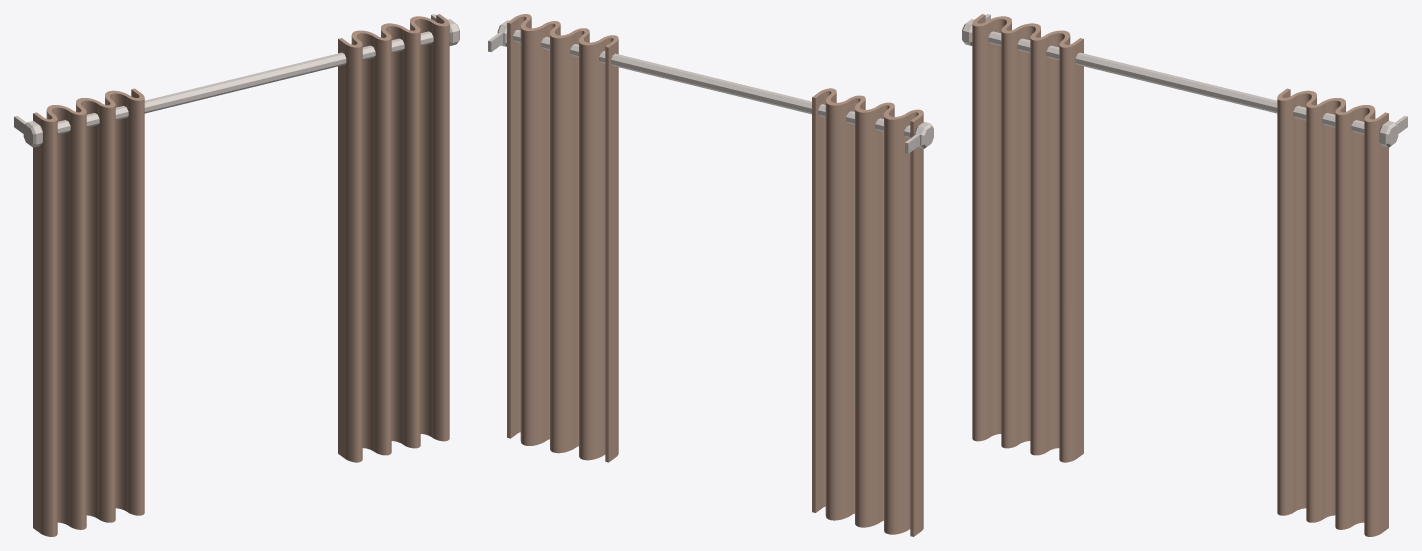
Rendered from Prop_Curtains_Double.glb.
3 views of the same model, side by side, from view 1: azimuth 30°, elevation 25°; view 2: azimuth 150°, elevation 25°; view 3: azimuth 330°, elevation 25° (orthographic).
Parts seen in each view (by area): view 1: object2, object3, object1; view 2: object2, object3, object1; view 3: object3, object2, object1.
Part boxes in pixels (x1,y1,x2,y2): object2: (338, 14, 449, 462); object3: (33, 88, 144, 536); object1: (14, 14, 459, 147); object2: (507, 14, 618, 462); object3: (812, 88, 923, 536); object1: (488, 20, 933, 153); object3: (972, 14, 1083, 462); object2: (1277, 88, 1388, 536); object1: (962, 14, 1407, 147).
Bounding box in the file's own units: 2.1 × 1.95 × 0.225.
